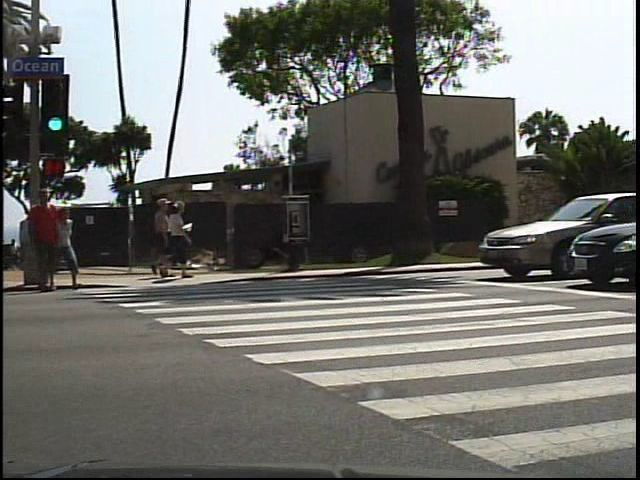person: (22, 191, 61, 299), (52, 200, 84, 289)
